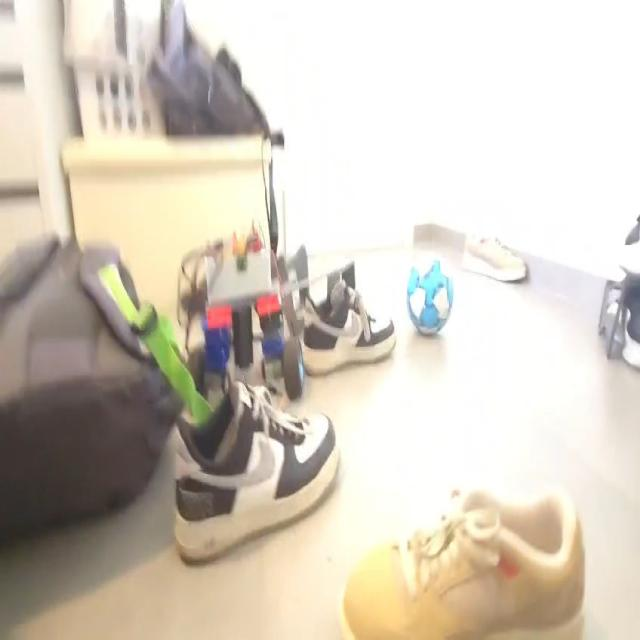Robot: (186, 234, 304, 399)
